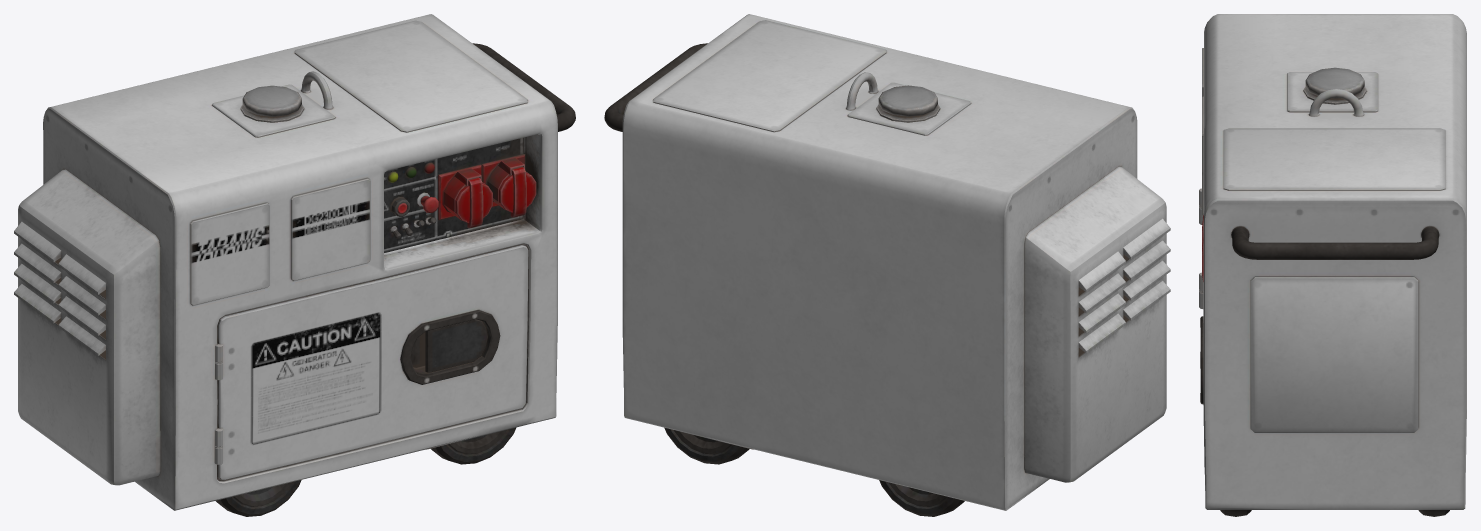
The model's file is generator.glb.
3 views of the same model, side by side, from view 1: azimuth 30°, elevation 25°; view 2: azimuth 150°, elevation 25°; view 3: azimuth 270°, elevation 25° (orthographic).
Parts seen in each view (by area): view 1: Base_generator, réservoir; view 2: Base_generator, réservoir; view 3: Base_generator, réservoir.
Part boxes in pixels (box(x1,y1,x2,y2)): Base_generator: box(14, 14, 575, 516); réservoir: box(242, 85, 301, 116); Base_generator: box(604, 14, 1170, 516); réservoir: box(878, 85, 937, 116); Base_generator: box(1199, 14, 1466, 516); réservoir: box(1305, 67, 1364, 98).
Bounding box in the file's own units: 2.81 × 2.1 × 1.37.
Materials: 1 (1 with a texture image).
